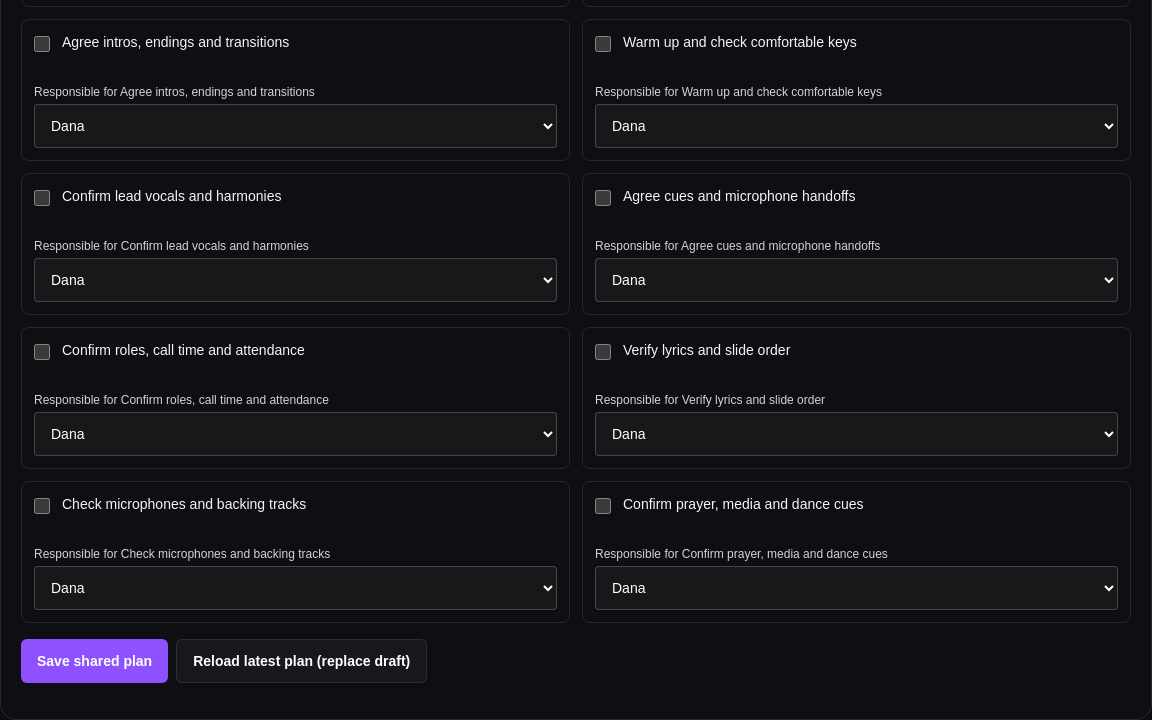
Test: saved team preparation › reloads only on an explicit draft-replacement click
This screenshot has width=1152, height=720.
(page scrolled)
Click the button "Reload latest plan (replace draft)".
click(302, 661)  # box [176, 639, 427, 683]
(page scrolled)
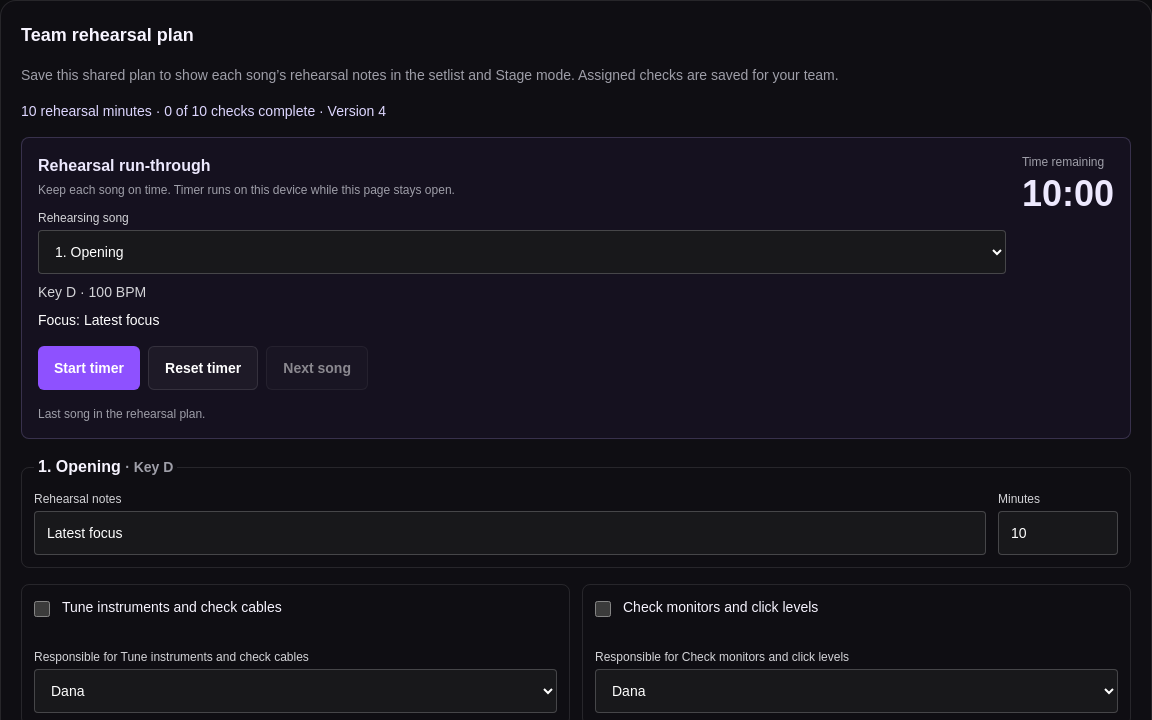
Expected: the field named "Rehearsal notes for Opening" holds "Latest focus", [34, 511, 986, 555]
Expected: the text "10 rehearsal minutes · 0 of 10 checks complete · Version 4" is shown, [21, 103, 386, 119]
